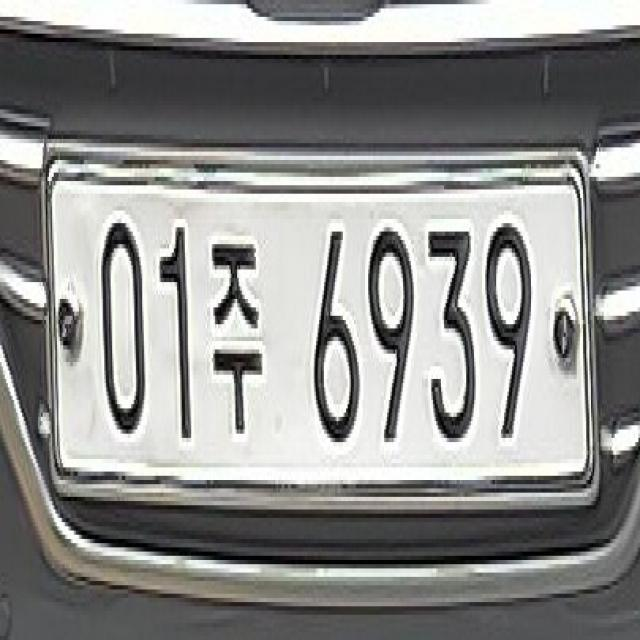0: (90, 201, 150, 452)
1: (158, 209, 202, 452)
3: (427, 208, 477, 446)
6: (308, 207, 364, 454)
9: (482, 206, 542, 442), (368, 197, 418, 464)
ju: (208, 217, 274, 453)
license_plate: (42, 101, 597, 504)
